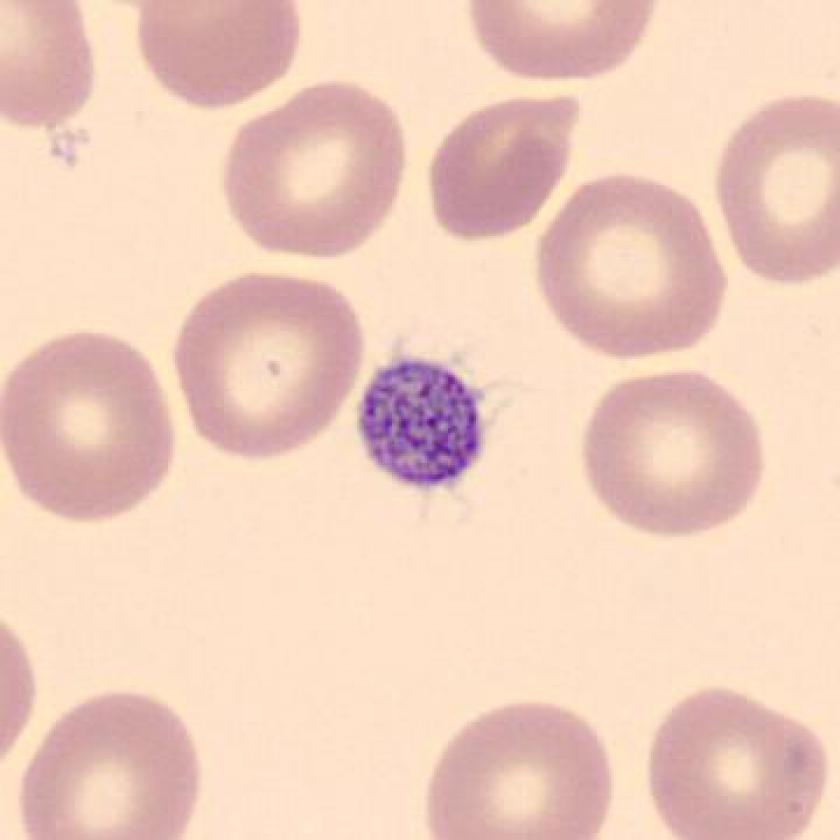platelets: (344, 341, 496, 503)
